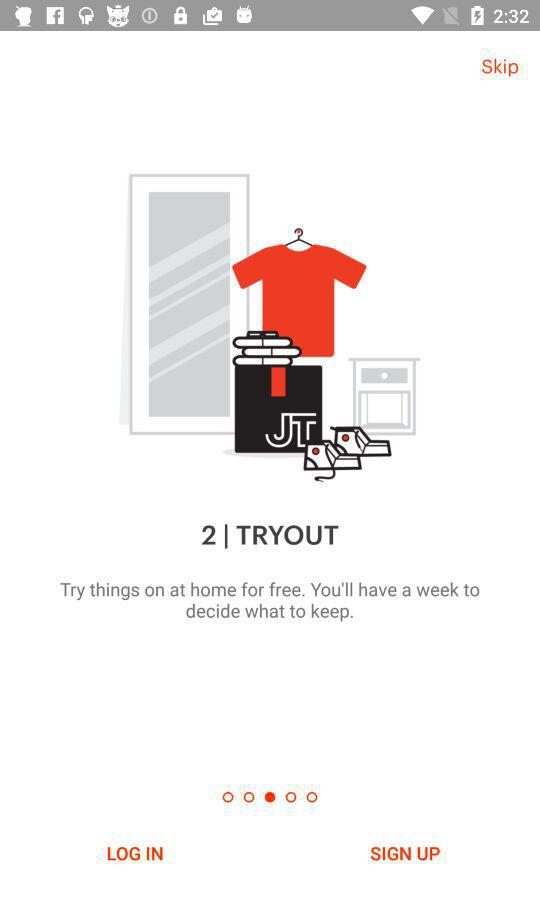Image: (118, 174, 421, 484)
PageIndicator: (222, 790, 320, 805)
Text: (59, 581, 480, 623), (201, 523, 340, 550), (370, 845, 442, 862), (107, 846, 165, 863), (481, 58, 519, 79)
UpperTaskBar: (1, 1, 540, 33)
